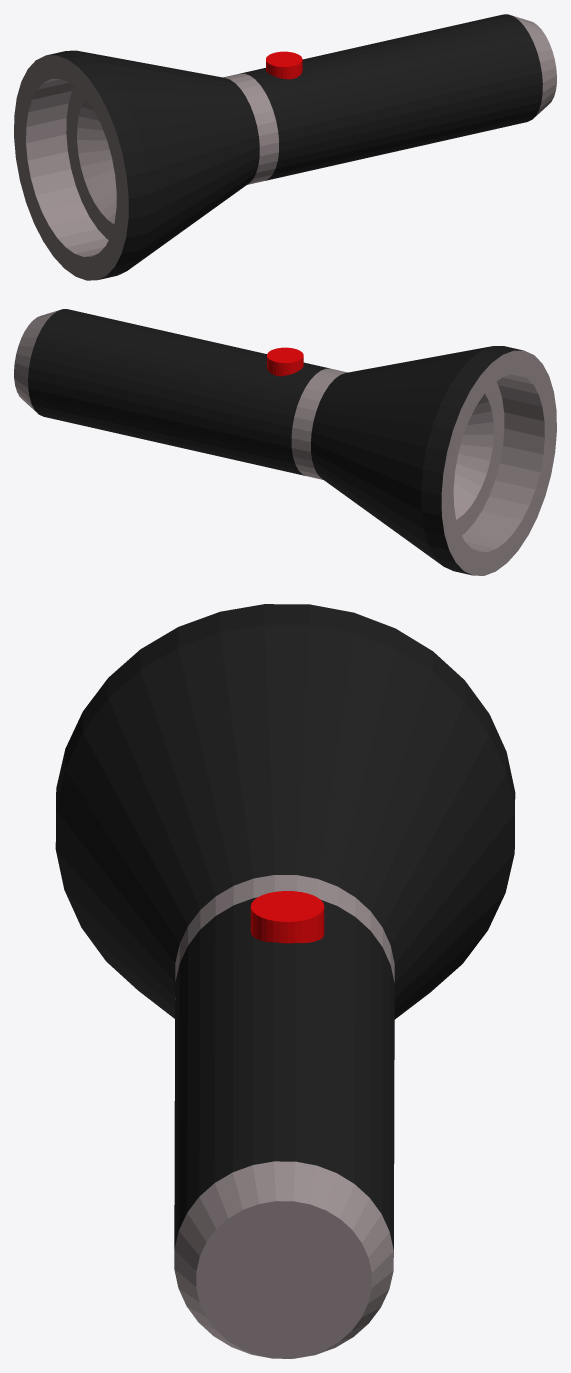
Rendered from FlashLight.fbx.
3 renders of one model, top to bottom at view 1: azimuth 30°, elevation 25°; view 2: azimuth 150°, elevation 25°; view 3: azimuth 270°, elevation 25°, orthographic. The views are drawn at different scales.
Parts seen in each view (by area): view 1: Cylinder, Cylinder.001; view 2: Cylinder, Cylinder.001; view 3: Cylinder, Cylinder.001.
Boxes of the visible parts, x1=… form: Cylinder: x1=14, y1=14, x2=556, y2=280; Cylinder.001: x1=266, y1=51, x2=302, y2=79; Cylinder: x1=14, y1=309, x2=556, y2=575; Cylinder.001: x1=267, y1=347, x2=303, y2=376; Cylinder: x1=55, y1=604, x2=515, y2=1358; Cylinder.001: x1=250, y1=891, x2=324, y2=943.
Size of the model in its own units: 36 by 15.4 by 15.37.
